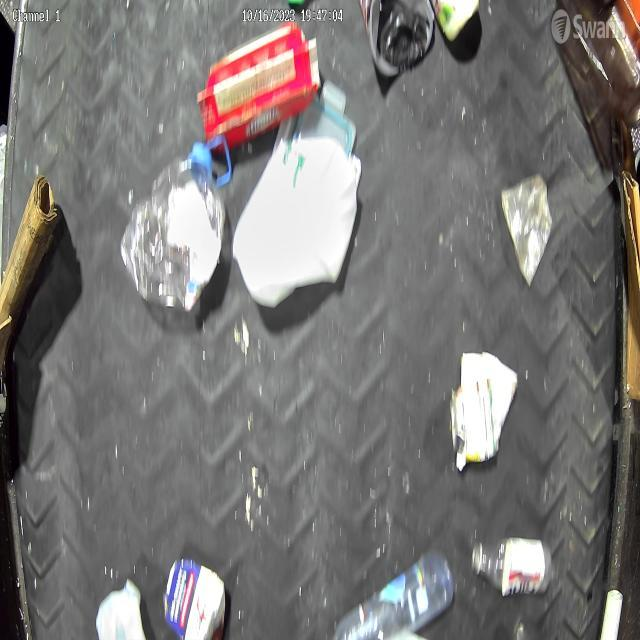can: (449, 378, 499, 464)
milk_jug: (234, 136, 358, 309), (96, 578, 146, 640)
plastic_bottle: (120, 142, 226, 312), (329, 548, 454, 640), (471, 534, 554, 594)
